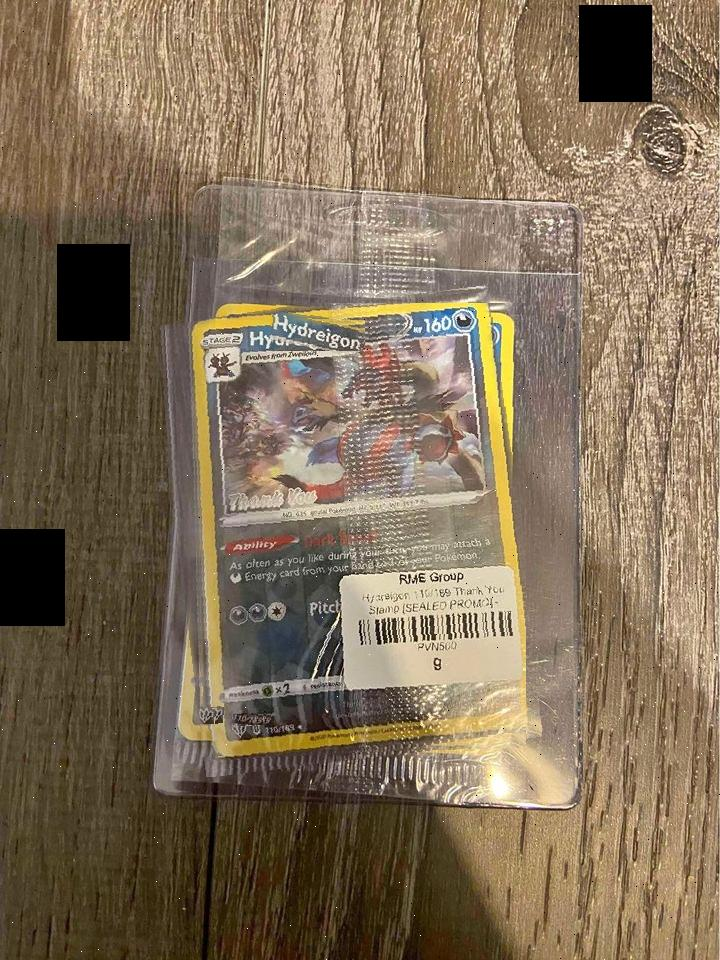card: (192, 303, 526, 757)
name: (271, 318, 365, 352)
set num: (232, 715, 263, 727)
set symbol: (198, 707, 216, 724)
